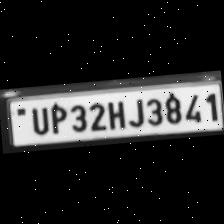1: (202, 91, 222, 122)
2: (86, 100, 106, 132)
3: (66, 100, 88, 134), (142, 94, 164, 127)
4: (180, 90, 204, 124)
8: (162, 92, 184, 125)
H: (104, 97, 126, 130)
J: (124, 96, 144, 128)
P: (46, 102, 68, 136)
U: (26, 104, 49, 136)
